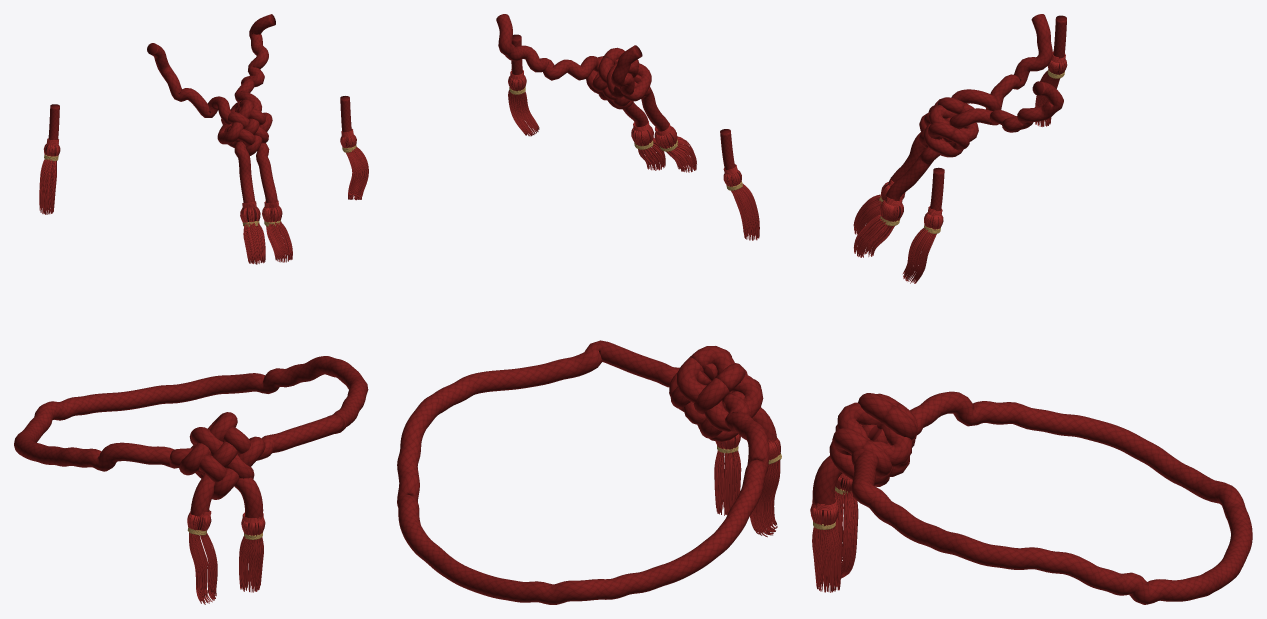
File: body-v2-pass9-cords.glb
3 renders of one model, left to right at view 1: azimuth 30°, elevation 25°; view 2: azimuth 150°, elevation 25°; view 3: azimuth 270°, elevation 25°, orthographic. The views are drawn at different scales.
Visible parts, largest first — view 1: Sanada / cords; view 2: Sanada / cords; view 3: Sanada / cords.
Part boxes in pixels (x1,y1,x2,y2): Sanada / cords: [14, 14, 368, 604]; Sanada / cords: [397, 14, 781, 604]; Sanada / cords: [810, 14, 1252, 604].
Size of the model in its own units: 0.3974 by 0.6124 by 0.4219.
Materials: 4 (1 with a texture image).
